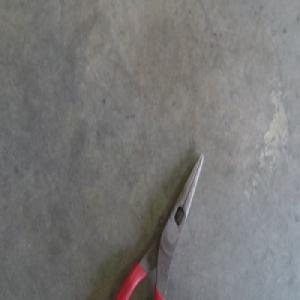Pliers: (116, 148, 204, 299)
